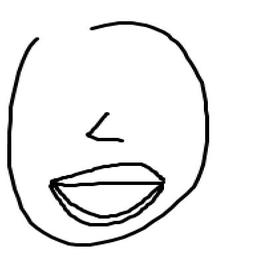open_mouth: (39, 157, 171, 230)
pointy_nose: (79, 104, 131, 149)
